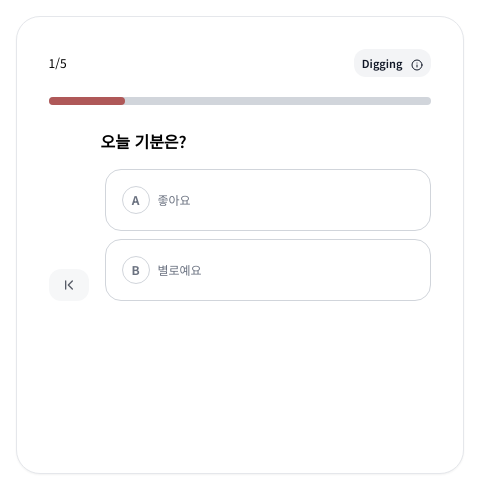
DiggingFlow컨포넌트 UI Test › 이전 누르면 이전 문제로 가는지?
Click the text "좋아요".
click(174, 200)  # box top-left (158, 191), bottom-right (191, 208)
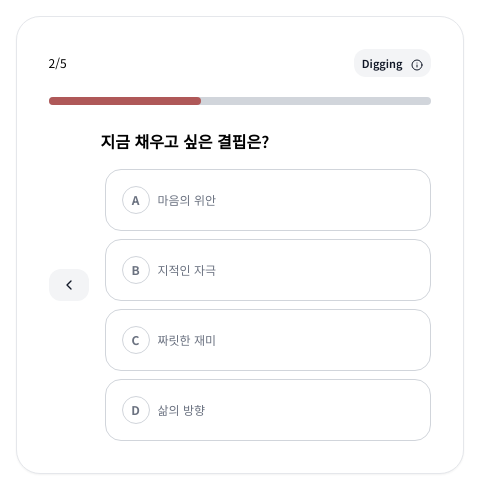
Now the text "2" is shown, box top-left (48, 55), bottom-right (55, 71)
Click the button named "이전 질문".
click(68, 285)  # box top-left (48, 269), bottom-right (88, 301)
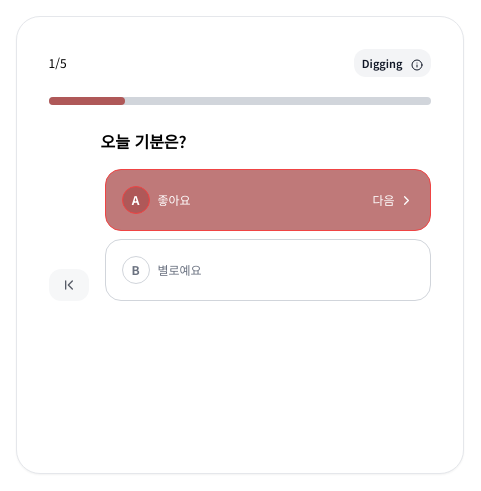
Now the text "1" is shown, box top-left (48, 55), bottom-right (55, 71)
